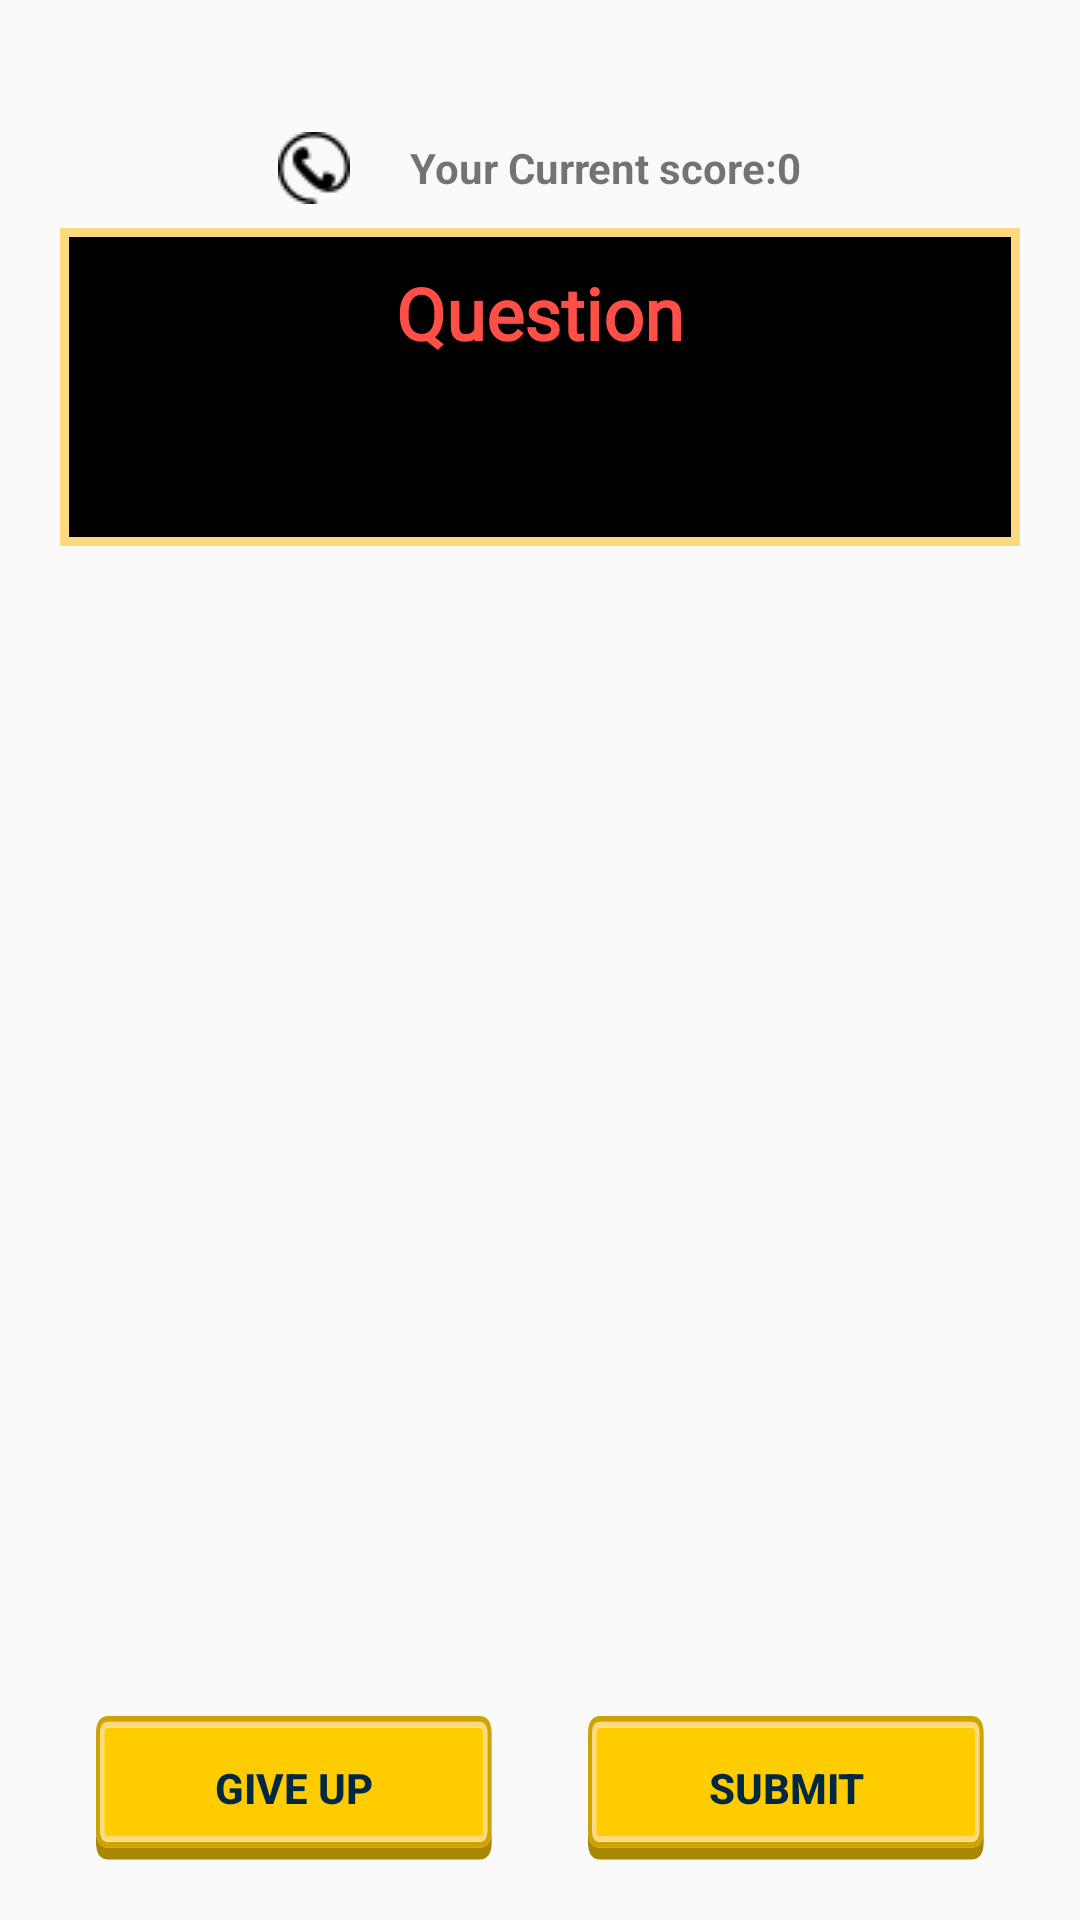

Icons on this 1080×1920 Android screen, each with its box as (x1, y1, x2, y2):
phone: (278, 132, 350, 204)
